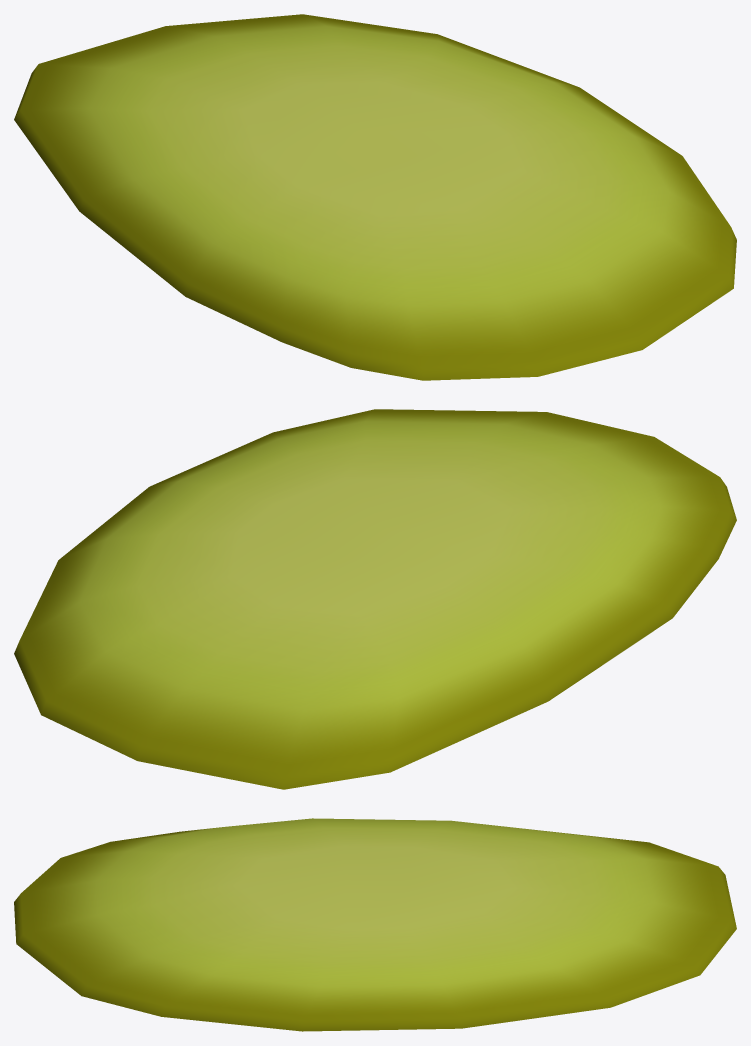
Rendered from grassTopEdge_C.fbx.
The picture shows the model from 3 angles, top to bottom: view 1: azimuth 30°, elevation 25°; view 2: azimuth 150°, elevation 25°; view 3: azimuth 270°, elevation 25°; orthographic projection. The views are drawn at different scales.
Visible parts, largest first — view 1: grassTopEdge_C; view 2: grassTopEdge_C; view 3: grassTopEdge_C.
Part boxes in pixels (x1=…): grassTopEdge_C: x1=14, y1=14, x2=736, y2=380; grassTopEdge_C: x1=14, y1=409, x2=736, y2=789; grassTopEdge_C: x1=14, y1=818, x2=736, y2=1031.
Size of the model in its own units: 1570 by 399 by 2377.
